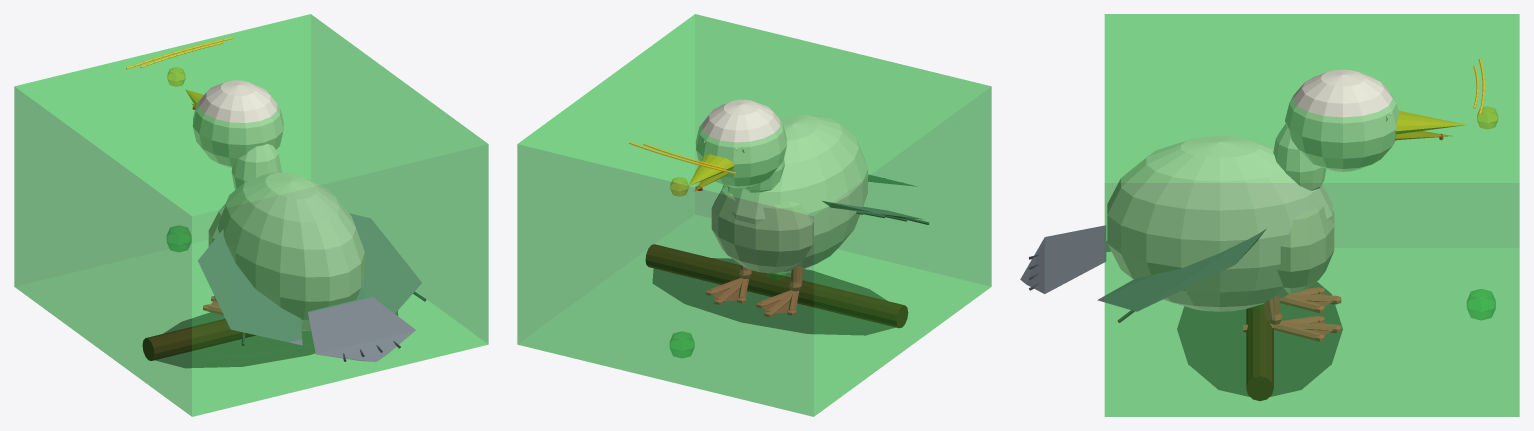
The model's file is seagull_bird_perched.obj.
3 renders of one model, left to right at view 1: azimuth 30°, elevation 25°; view 2: azimuth 150°, elevation 25°; view 3: azimuth 270°, elevation 25°, orthographic. The views are drawn at different scales.
Visible parts, largest first — view 1: Guide_Alert_Flee_Trigger_delete_or_hide, White_oval_seagull_body, Round_white_seagull_head, Short_fanned_tail_feathers, Left_folded_grey_wing, Soft_shadow_under_perched_seagull, Right_folded_grey_wing, Simple_round_perch_branch_or_rail, Short_white_neck, Guide_Dog_Sniff_Approach_Point; view 2: Guide_Alert_Flee_Trigger_delete_or_hide, White_oval_seagull_body, Soft_shadow_under_perched_seagull, Round_white_seagull_head, Simple_round_perch_branch_or_rail, White_chest_belly_round, Long_yellow_seagull_beak_upper, Guide_Dog_Sniff_Approach_Point, Left_folded_grey_wing; view 3: Guide_Alert_Flee_Trigger_delete_or_hide, White_oval_seagull_body, Round_white_seagull_head, Soft_shadow_under_perched_seagull, Short_fanned_tail_feathers, White_chest_belly_round, Right_folded_grey_wing, Simple_round_perch_branch_or_rail, Short_white_neck, Long_yellow_seagull_beak_upper, Guide_Dog_Sniff_Approach_Point.
Part boxes in pixels (box(x1,y1,x2,y2)): Guide_Alert_Flee_Trigger_delete_or_hide: box(14, 14, 488, 416); White_oval_seagull_body: box(217, 172, 364, 330); Round_white_seagull_head: box(193, 80, 283, 167); Short_fanned_tail_feathers: box(308, 296, 415, 361); Left_folded_grey_wing: box(198, 230, 302, 345); Soft_shadow_under_perched_seagull: box(155, 311, 397, 367); Right_folded_grey_wing: box(349, 213, 421, 313); Simple_round_perch_branch_or_rail: box(142, 319, 255, 360); Short_white_neck: box(231, 144, 281, 189); Guide_Dog_Sniff_Approach_Point: box(167, 225, 191, 251); Guide_Alert_Flee_Trigger_delete_or_hide: box(517, 14, 991, 416); White_oval_seagull_body: box(722, 114, 867, 272); Soft_shadow_under_perched_seagull: box(652, 258, 895, 335); Round_white_seagull_head: box(695, 99, 786, 188); Simple_round_perch_branch_or_rail: box(645, 244, 908, 328); White_chest_belly_round: box(711, 185, 814, 273); Long_yellow_seagull_beak_upper: box(688, 154, 734, 185); Guide_Dog_Sniff_Approach_Point: box(670, 331, 694, 357); Left_folded_grey_wing: box(822, 201, 922, 219); Guide_Alert_Flee_Trigger_delete_or_hide: box(1104, 14, 1519, 416); White_oval_seagull_body: box(1107, 136, 1332, 311); Round_white_seagull_head: box(1285, 69, 1399, 171); Soft_shadow_under_perched_seagull: box(1177, 282, 1342, 396); Short_fanned_tail_feathers: box(1020, 225, 1106, 293); White_chest_belly_round: box(1277, 206, 1334, 293); Right_folded_grey_wing: box(1097, 228, 1266, 311); Simple_round_perch_branch_or_rail: box(1246, 304, 1273, 400); Short_white_neck: box(1273, 124, 1325, 190); Long_yellow_seagull_beak_upper: box(1395, 111, 1466, 134); Guide_Dog_Sniff_Approach_Point: box(1467, 289, 1495, 320).
Size of what is drawn, in the model's own units: 1.3 by 0.9256 by 1.62.
